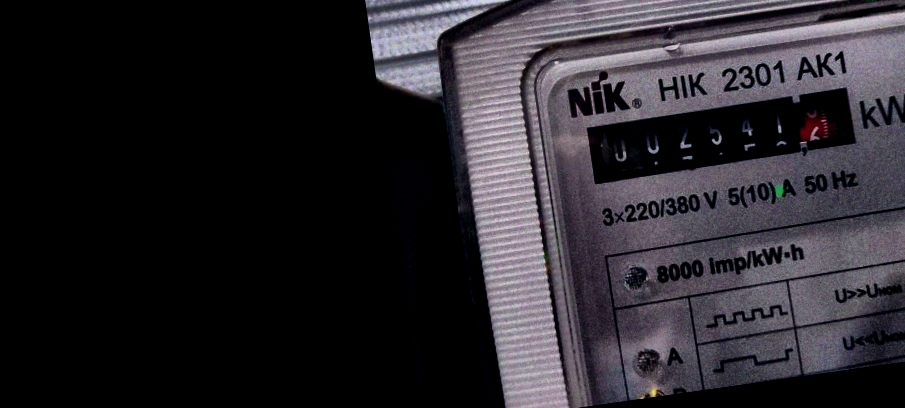0: (640, 121, 663, 157), (610, 132, 631, 163)
1: (766, 101, 787, 136)
2: (671, 116, 696, 152)
4: (736, 106, 757, 139)
5: (704, 114, 725, 148)
6: (804, 120, 823, 143)
screen: (569, 69, 879, 200)
